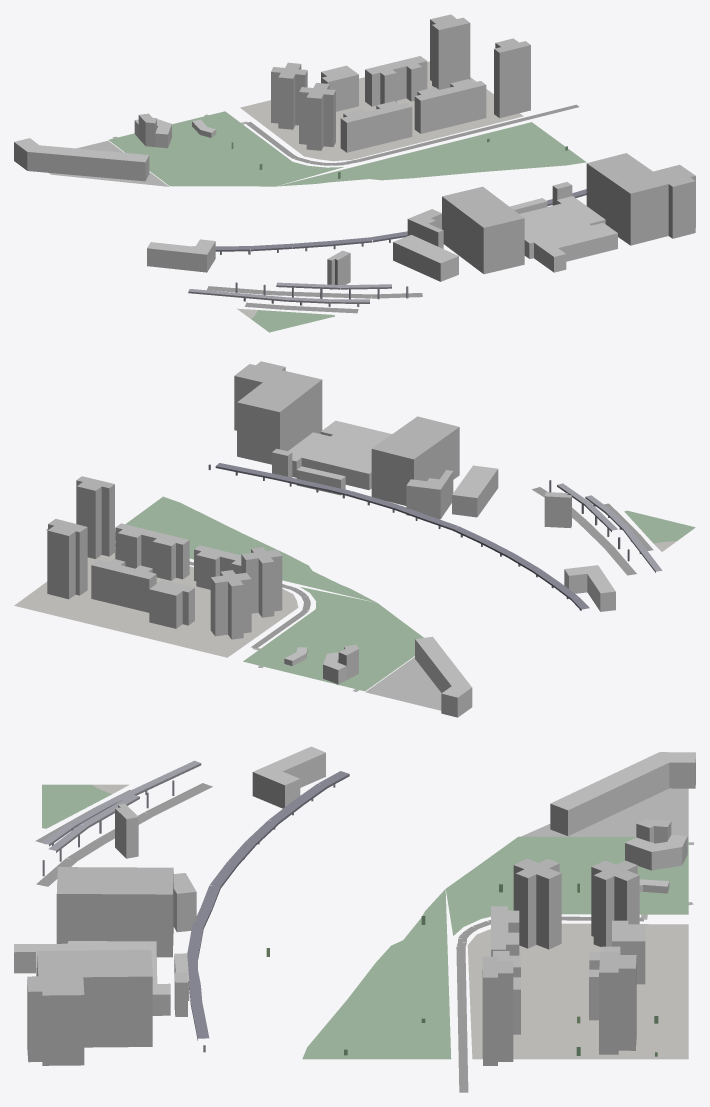
The picture shows the model from 3 angles, top to bottom: view 1: azimuth 30°, elevation 25°; view 2: azimuth 150°, elevation 25°; view 3: azimuth 270°, elevation 25°; orthographic projection. The views are drawn at different scales.
Size of the model in its own units: 591 by 76.91 by 527.
